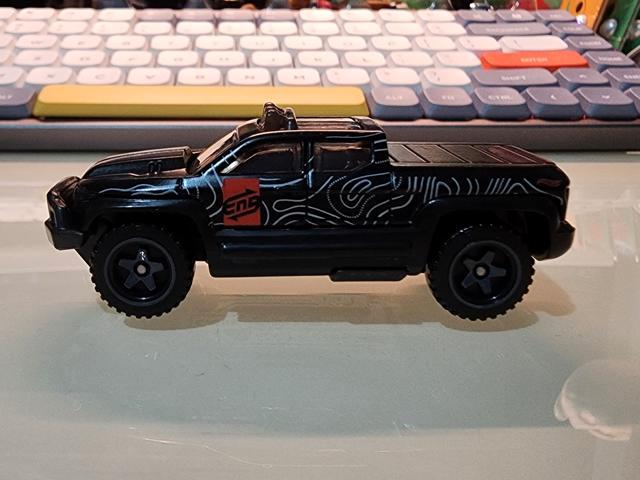toy-car: (44, 102, 576, 322)
